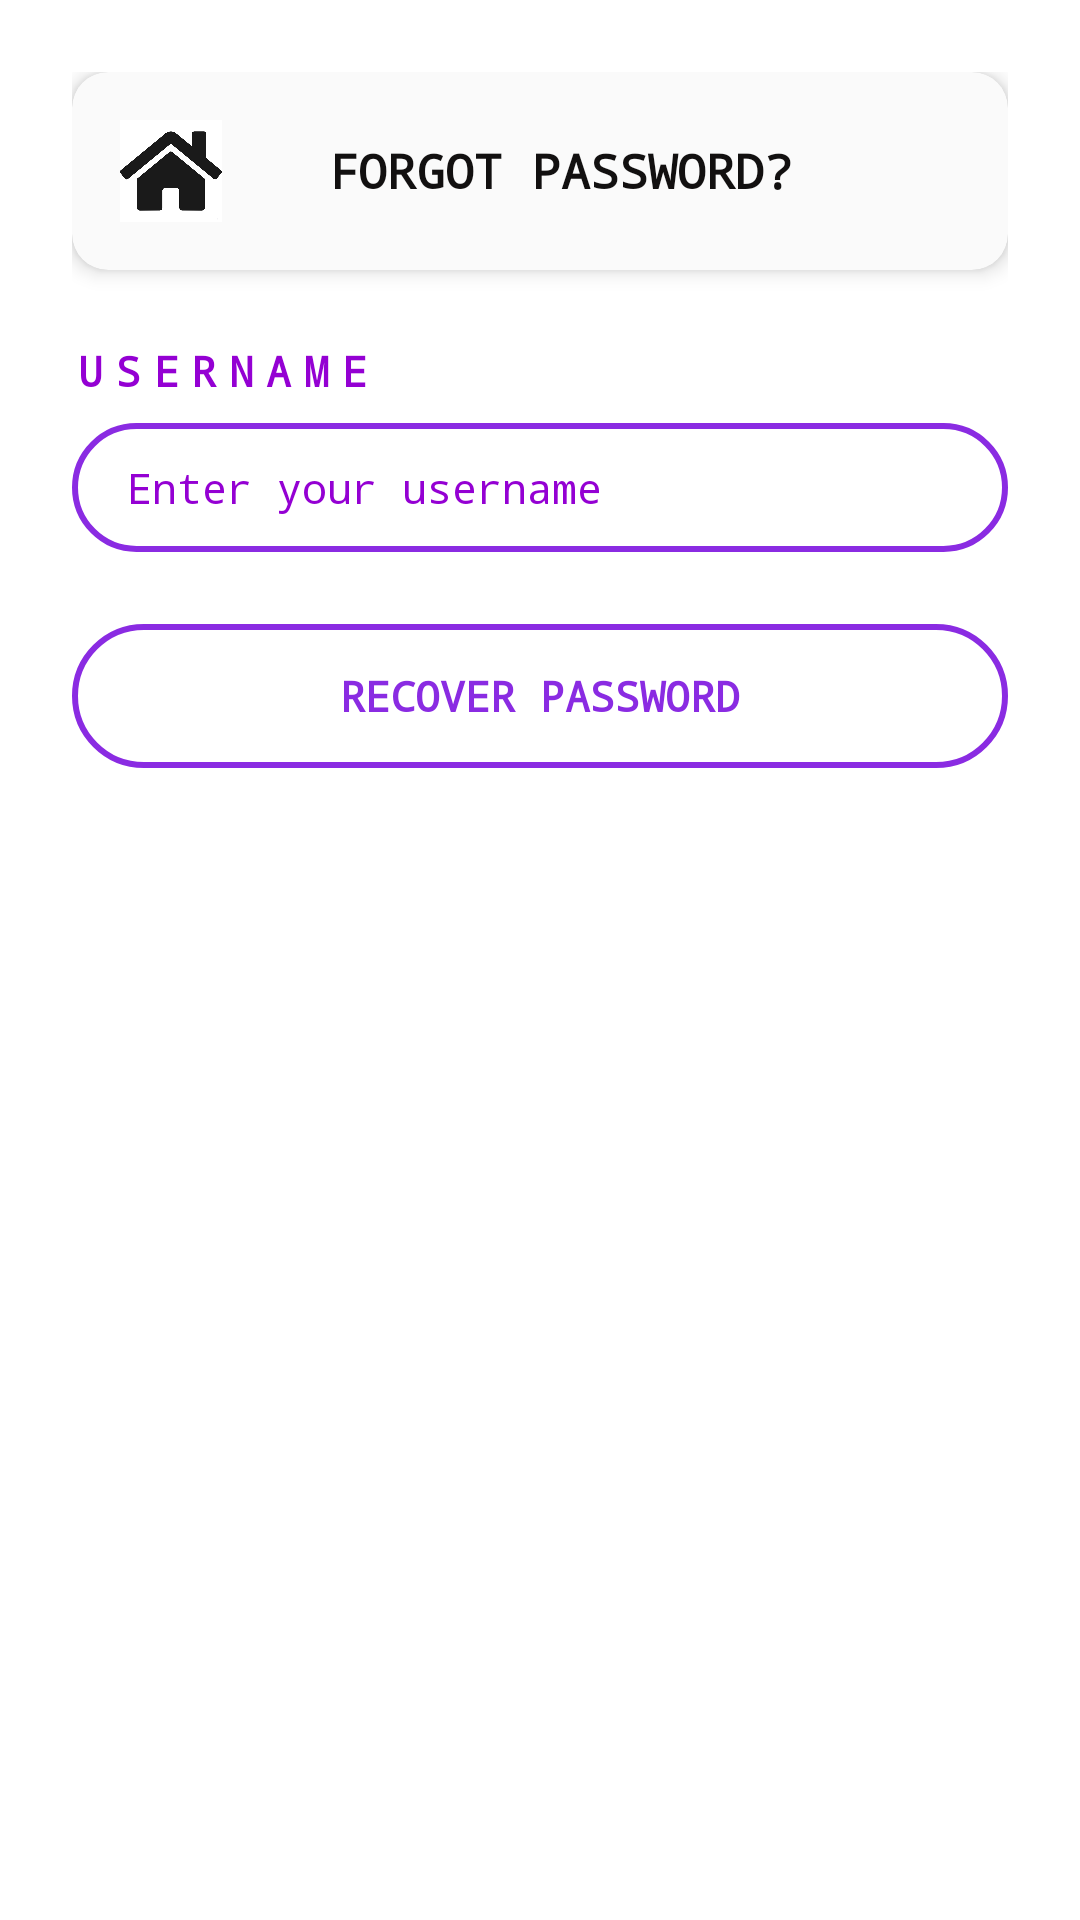

Named icons in this screenshot (1080 × 1920) and their bounding boxes, (x1, y1, x2, y2):
Back to Dashboard: (120, 131, 222, 211)
